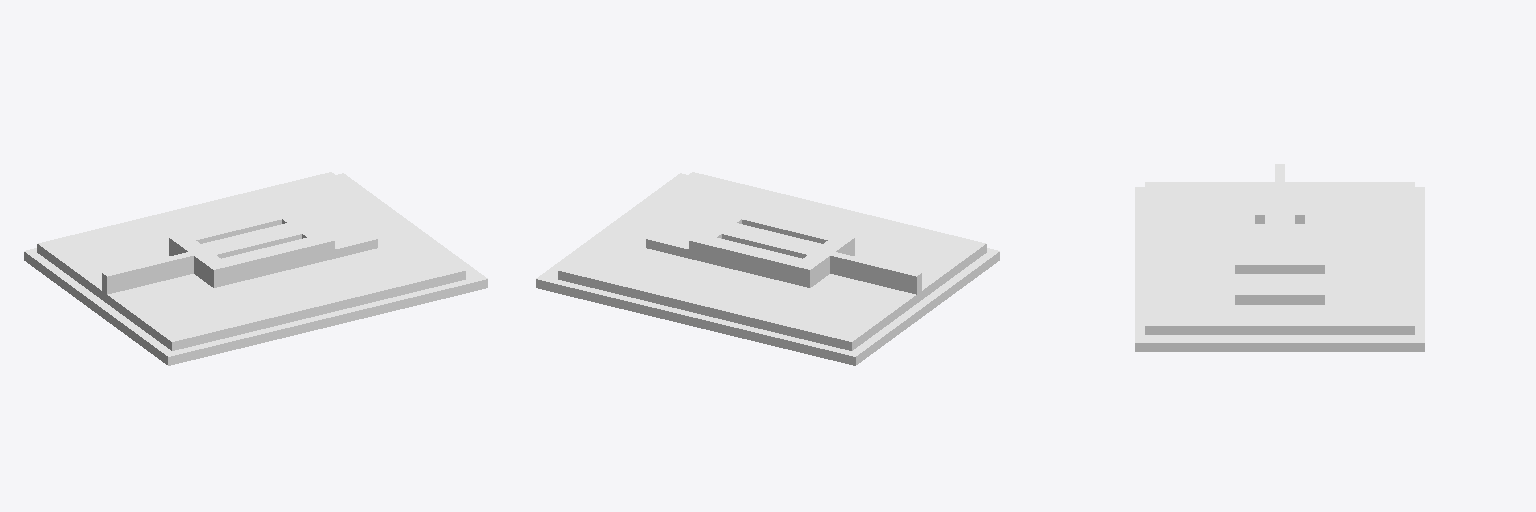
Rendered from Zlodey1.obj.
3 views of the same model, side by side, from view 1: azimuth 30°, elevation 25°; view 2: azimuth 150°, elevation 25°; view 3: azimuth 270°, elevation 25° (orthographic).
Parts seen in each view (by area): view 1: object 1; view 2: object 1; view 3: object 1.
Boxes of the visible parts, <box> form: object 1: <box>24,172,487,365</box>; object 1: <box>536,172,999,365</box>; object 1: <box>1135,164,1424,351</box>.
Bounding box in the file's own units: 3.7 × 0.4 × 2.9.